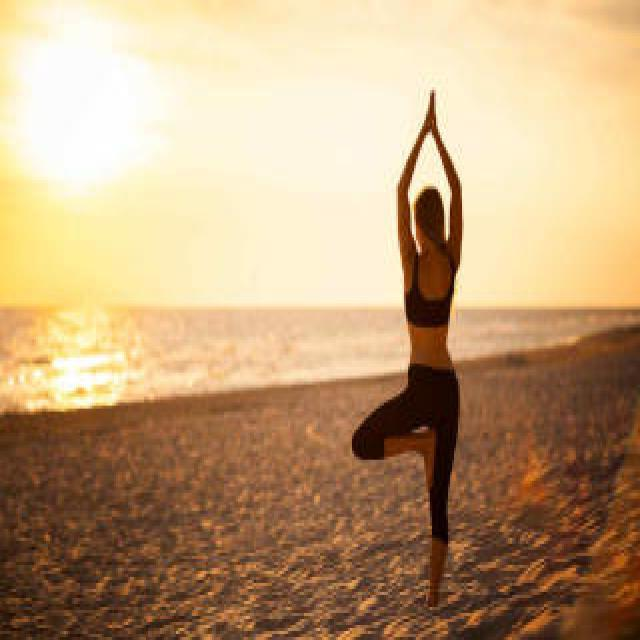yoga-pose tree: (350, 90, 476, 601)
